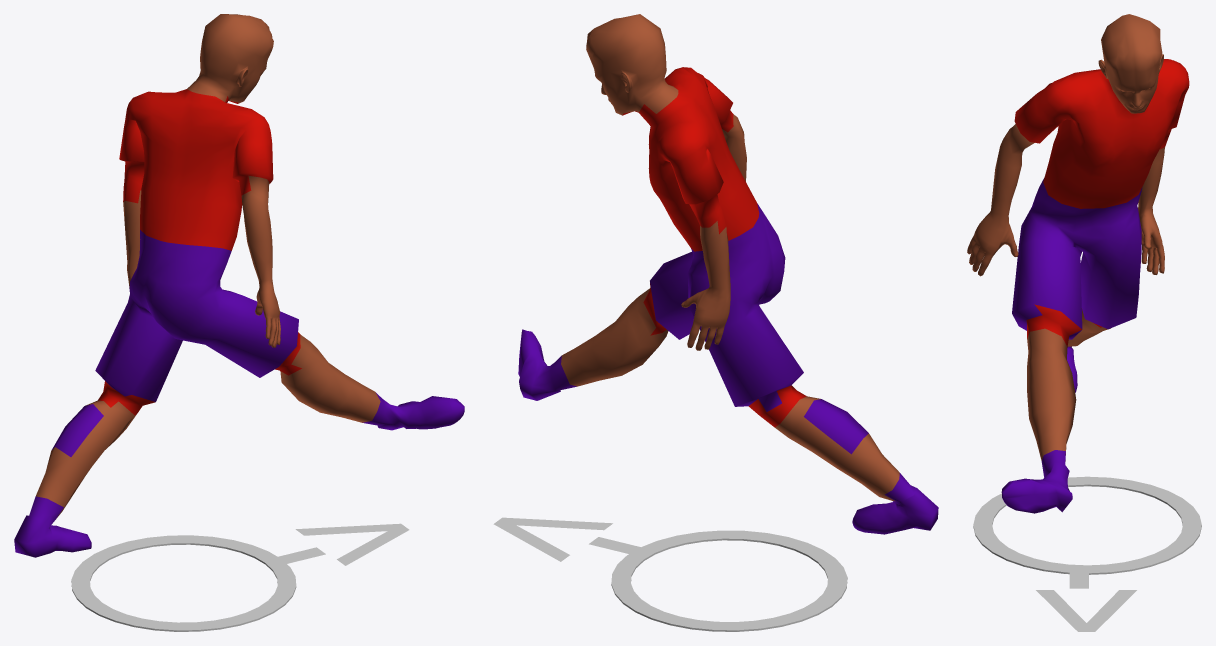
The model's file is player_000029.obj.
3 views of the same model, side by side, from view 1: azimuth 30°, elevation 25°; view 2: azimuth 150°, elevation 25°; view 3: azimuth 270°, elevation 25° (orthographic). The views are drawn at different scales.
Visible parts, largest first — view 1: soccerplayer.002_mesh.003, Circle, Text.001_Mesh.001; view 2: soccerplayer.002_mesh.003, Circle, Text.001_Mesh.001; view 3: soccerplayer.002_mesh.003, Circle, Text.001_Mesh.001.
Part boxes in pixels (left/top/right/bottom): soccerplayer.002_mesh.003: left=14, top=14, right=464, bottom=557; Circle: left=71, top=535, right=296, bottom=631; Text.001_Mesh.001: left=273, top=523, right=409, bottom=565; soccerplayer.002_mesh.003: left=518, top=14, right=938, bottom=534; Circle: left=611, top=530, right=847, bottom=631; Text.001_Mesh.001: left=493, top=517, right=643, bottom=561; soccerplayer.002_mesh.003: left=967, top=14, right=1189, bottom=513; Circle: left=973, top=476, right=1201, bottom=574; Text.001_Mesh.001: left=1036, top=567, right=1136, bottom=631.
Bounding box in the file's own units: 2.35 × 2.86 × 1.12.
